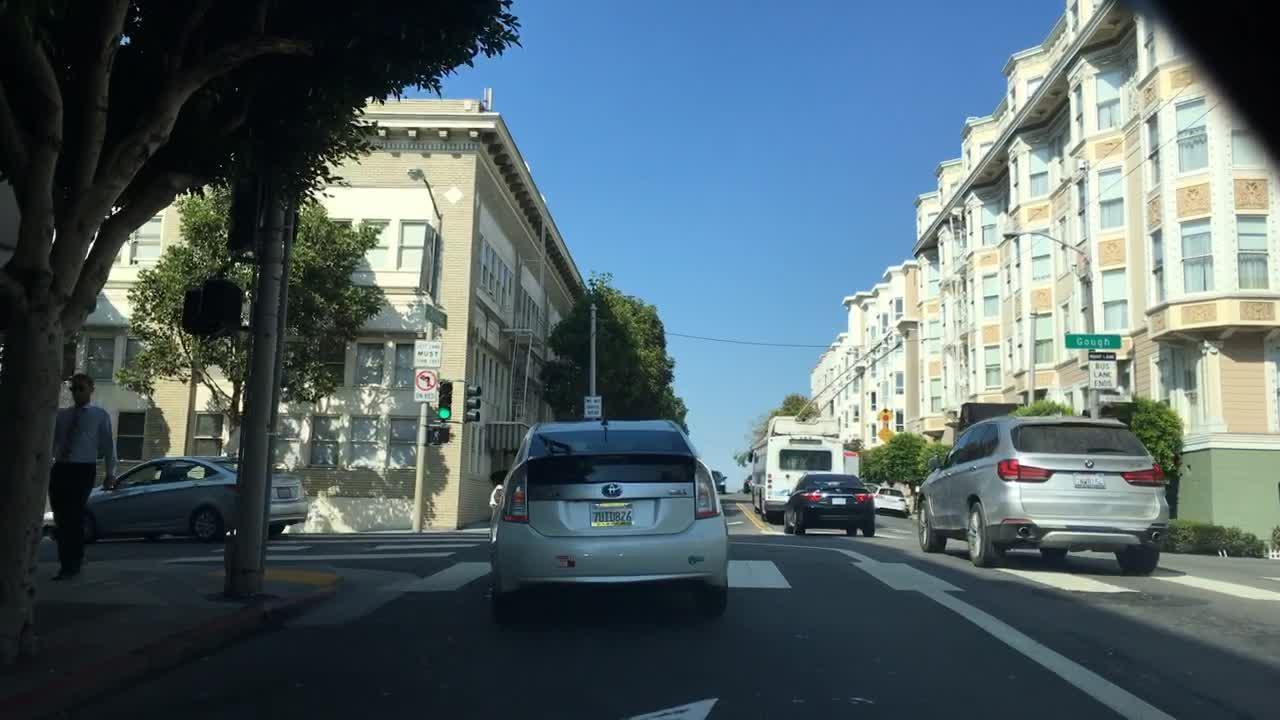Toyota: (599, 482, 625, 499)
bmw: (1081, 454, 1099, 471)
